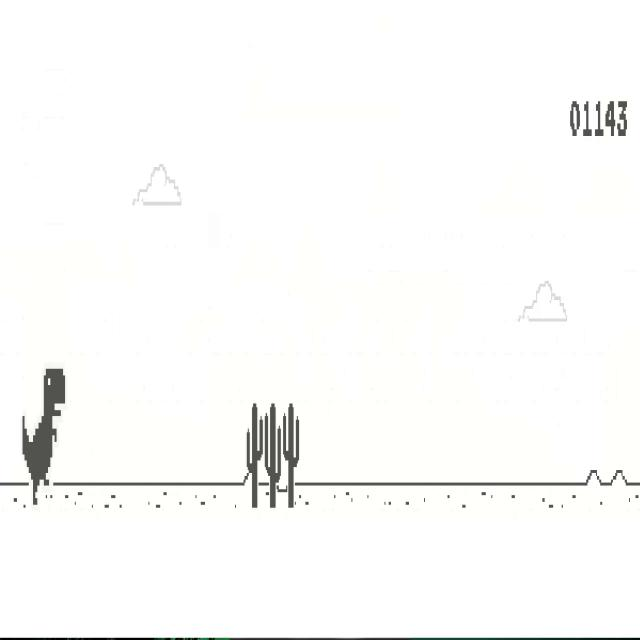cacto: (246, 403, 264, 509), (265, 403, 281, 509), (283, 403, 299, 509)
dino: (23, 368, 66, 507)
